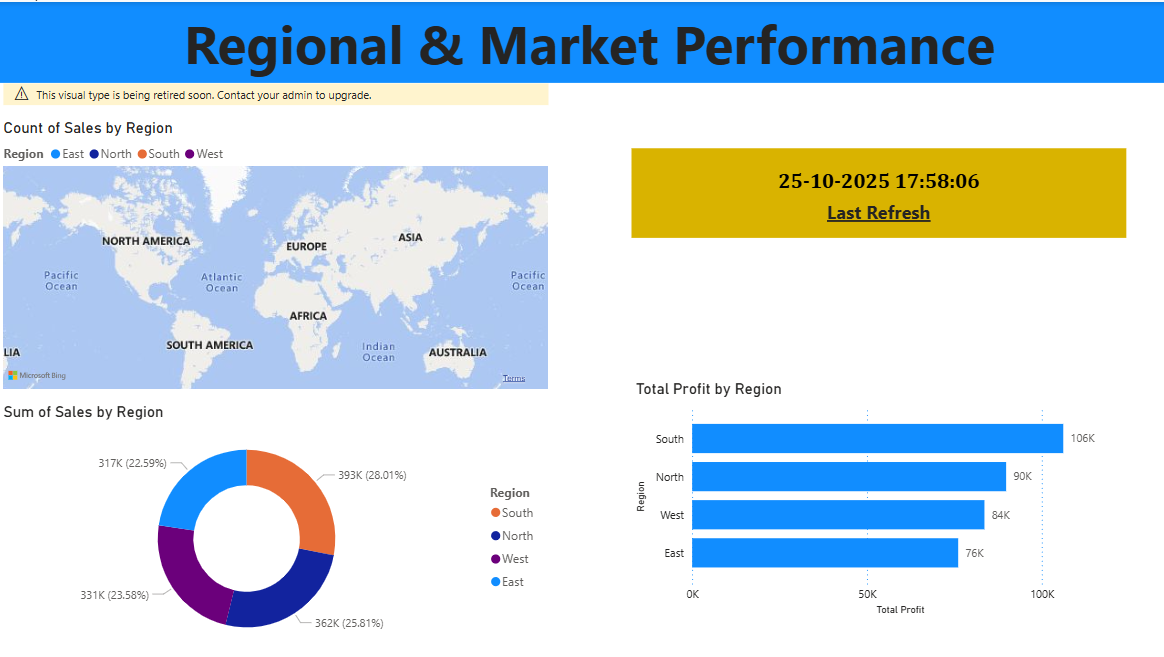

The dashboard page shown, as its layout file describes it:
{"tool":"powerbi","page":{"name":"Page 5","canvas":[1280,720],"ordinal":4},"visuals":[{"type":"textbox","box":[0,0,1280.3,89.2],"z":0},{"type":"map","fields":{"Size":["Count(Sales_Data.Sales)"],"Series":["Sales_Data.Region"]},"box":[0,89.2,607.9,340.3],"z":1000},{"type":"clusteredBarChart","fields":{"Category":["Sales_Data.Region"],"Y":["Sales_Data.Total Profit"]},"box":[694.3,439.1,543.4,263.5],"z":2000},{"type":"donutChart","fields":{"Y":["Sum(Sales_Data.Sales)"],"Category":["Sales_Data.Region"]},"box":[0,439,608,281],"z":3000},{"type":"card","fields":{"Values":["Sales_Data.Last Refresh"]},"box":[694.3,160.5,543.4,98.8],"z":4000}]}

Visuals, with their boxes in screenshot pixels (x1, y1, x2, y2), scaled from the page's 1280x720 canvas onto the 1164x657 screenshot:
textbox: l=0, t=0, r=1163, b=81
map - Count(Sales_Data.Sales) x Sales_Data.Region: l=0, t=81, r=553, b=392
clusteredBarChart - Sales_Data.Region x Sales_Data.Total Profit: l=631, t=401, r=1126, b=641
donutChart - Sum(Sales_Data.Sales) x Sales_Data.Region: l=0, t=401, r=553, b=656
card - Sales_Data.Last Refresh: l=631, t=146, r=1126, b=237
